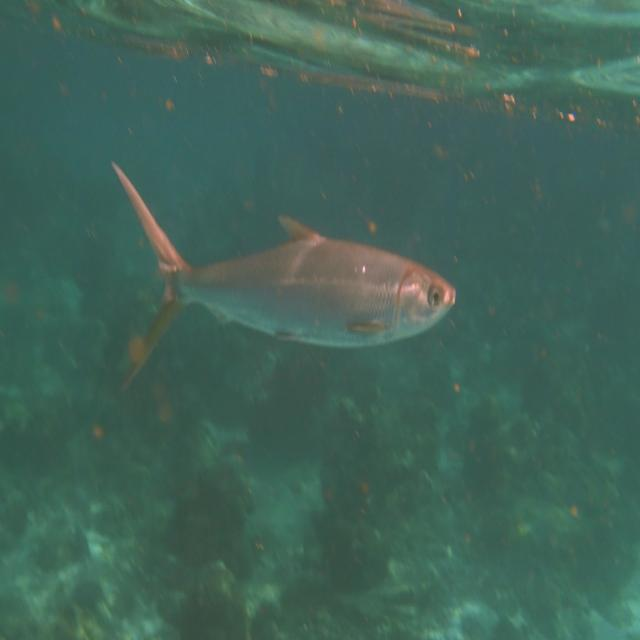Bangus: (83, 83, 484, 454)
